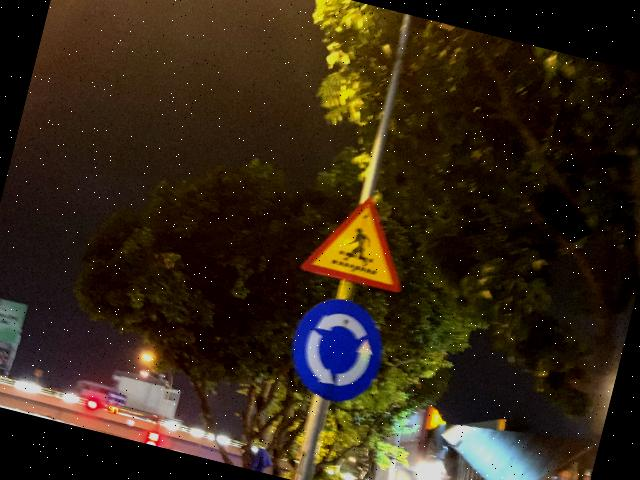duong-nguoi-di-bo-cat-ngang: (300, 185, 420, 294)
noi-giao-nhau-chay-theo-vong-xuyen: (281, 288, 394, 410)
